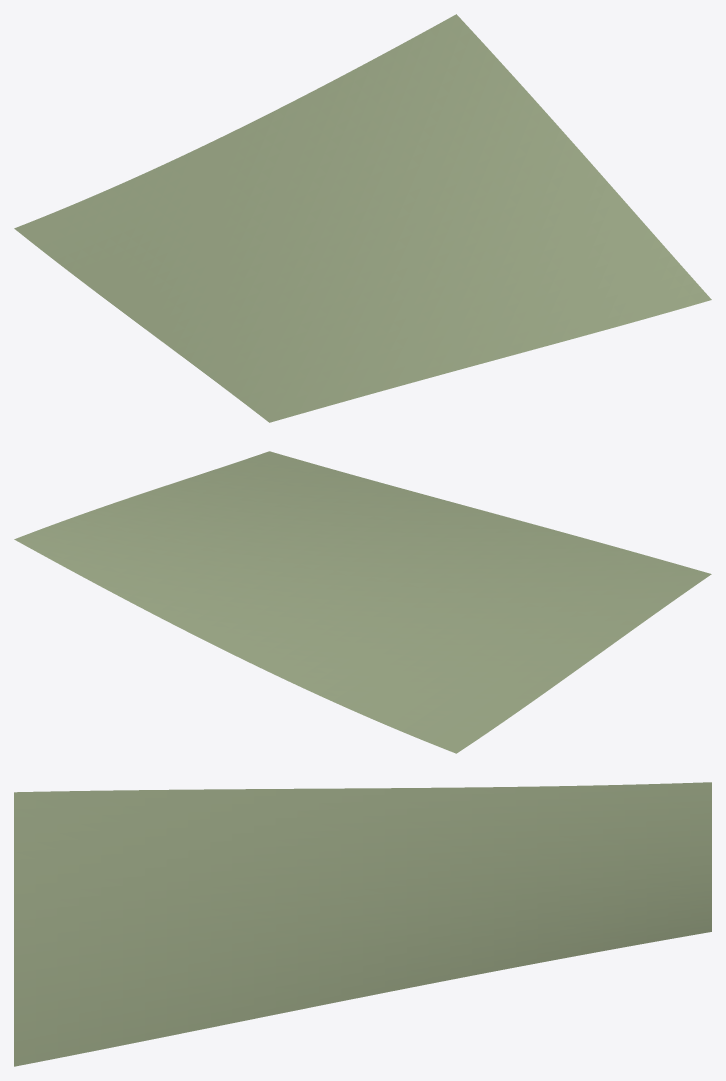
File: alpine-4-9.glb
3 views of the same model, one above another, from view 1: azimuth 30°, elevation 25°; view 2: azimuth 150°, elevation 25°; view 3: azimuth 270°, elevation 25° (orthographic). The views are drawn at different scales.
Visible parts, largest first — view 1: alpine-4-9; view 2: alpine-4-9; view 3: alpine-4-9.
Boxes of the visible parts, bbox=[...] form: alpine-4-9: bbox=[14, 14, 711, 422]; alpine-4-9: bbox=[14, 451, 711, 753]; alpine-4-9: bbox=[14, 782, 711, 1066].
Size of the model in its own units: 256 by 62.87 by 256.
